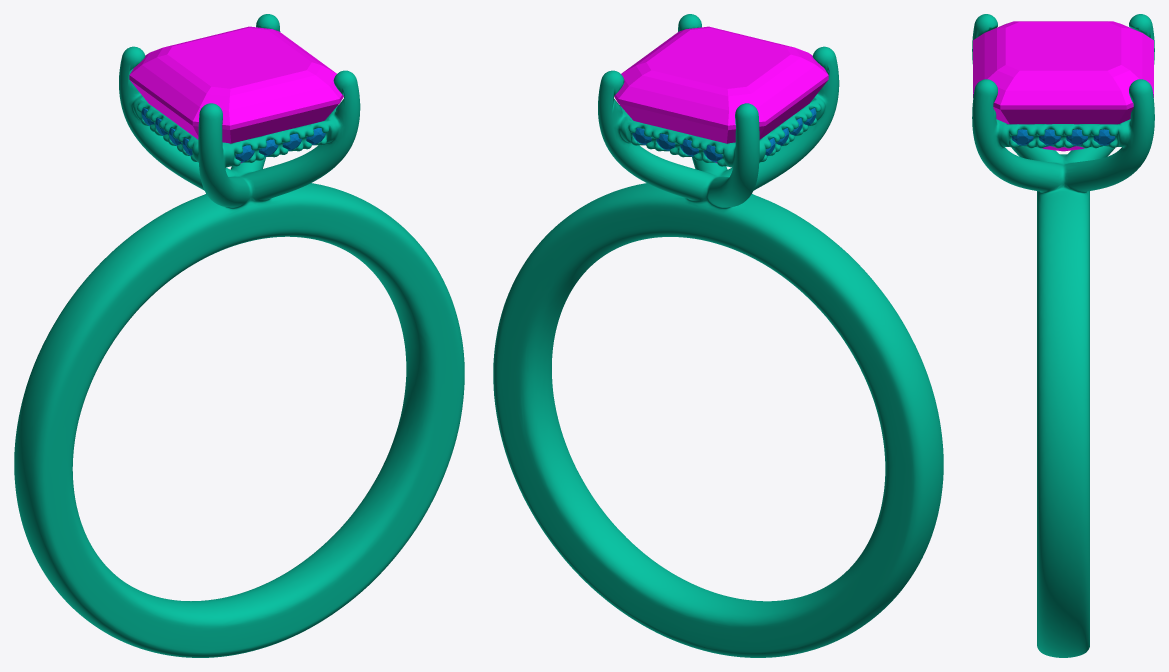
The model's file is BE1D887_AS_200ct_RENDER.glb.
3 renders of one model, left to right at view 1: azimuth 30°, elevation 25°; view 2: azimuth 150°, elevation 25°; view 3: azimuth 270°, elevation 25°, orthographic.
Visible parts, largest first — view 1: Metal 01, CS_Diamond_Asscher; view 2: Metal 01, CS_Diamond_Asscher; view 3: Metal 01, CS_Diamond_Asscher.
Part boxes in pixels (left/top/right/bottom): Metal 01: left=14, top=14, right=464, bottom=657; CS_Diamond_Asscher: left=129, top=26, right=343, bottom=163; Metal 01: left=493, top=14, right=943, bottom=657; CS_Diamond_Asscher: left=614, top=26, right=828, bottom=163; Metal 01: left=972, top=14, right=1154, bottom=657; CS_Diamond_Asscher: left=973, top=21, right=1153, bottom=151.
Bounding box in the file's own units: 20.89 × 26.92 × 7.58.
